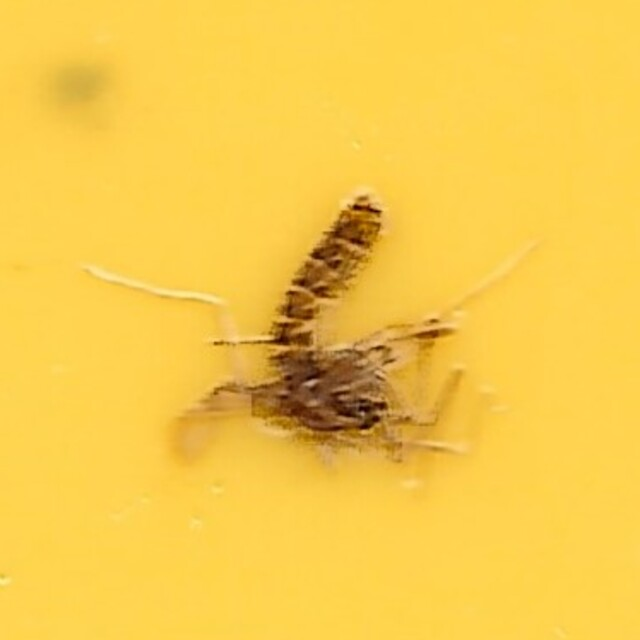Nematocera: (171, 175, 469, 465)
